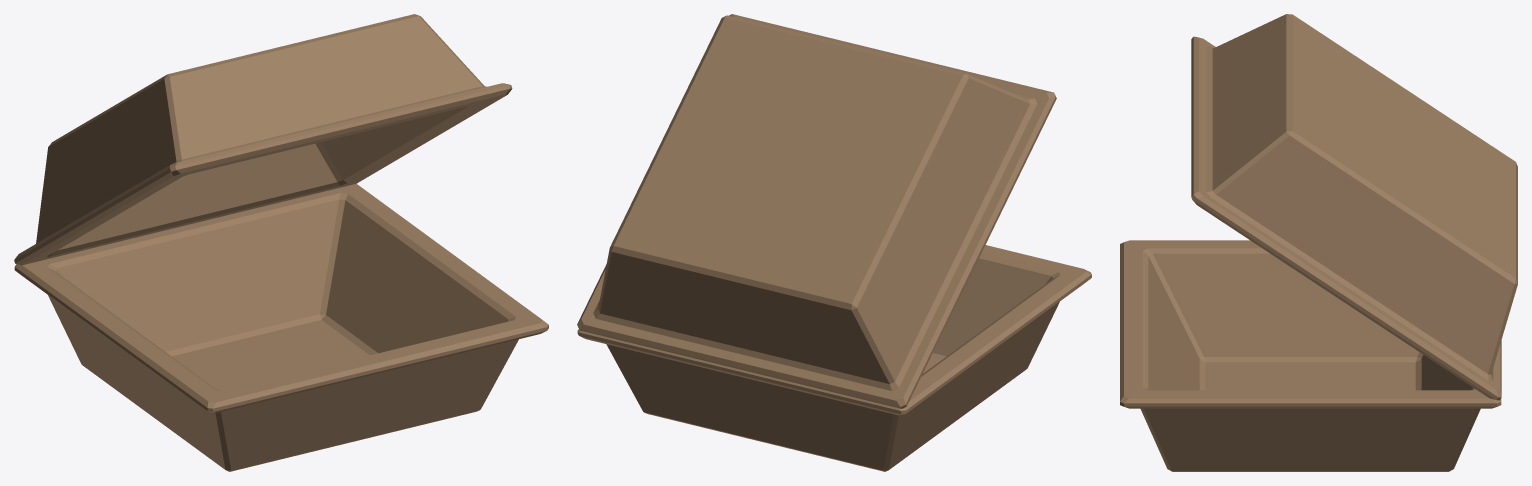
The model's file is fastFoodBox.fbx.
The picture shows the model from 3 angles, left to right: view 1: azimuth 30°, elevation 25°; view 2: azimuth 150°, elevation 25°; view 3: azimuth 270°, elevation 25°; orthographic projection. The views are drawn at different scales.
Parts seen in each view (by area): view 1: Fast Food Box; view 2: Fast Food Box; view 3: Fast Food Box.
Boxes of the visible parts, bbox=[...] form: Fast Food Box: bbox=[14, 14, 548, 471]; Fast Food Box: bbox=[577, 14, 1091, 471]; Fast Food Box: bbox=[1120, 14, 1517, 471].
Bounding box in the file's own units: 439 × 433 × 458.
